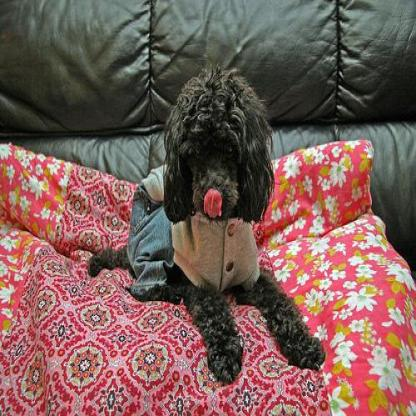toy_poodle: (85, 63, 326, 383)
